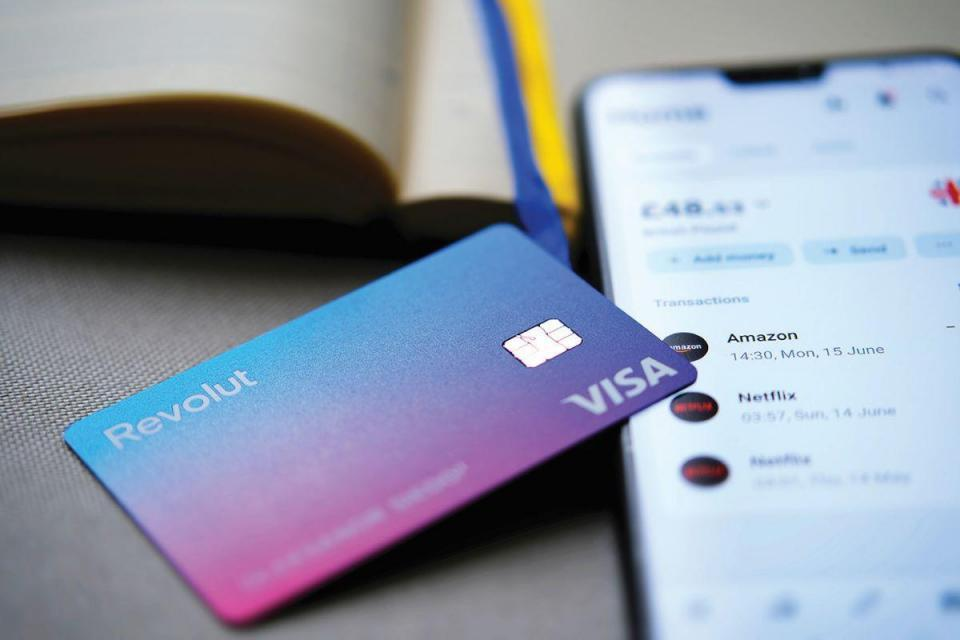Credit_card: (64, 224, 696, 623)
